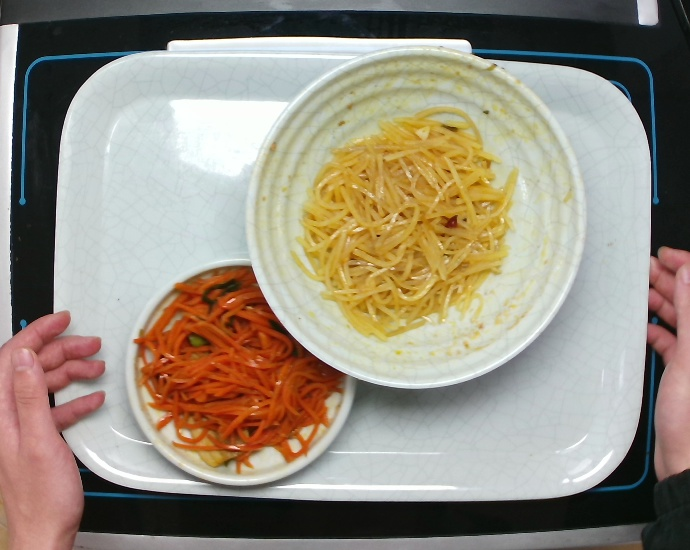JYsf-Da_Tang_Wan: (239, 42, 592, 394)
JYsf-Xiao_Yuan_Pan: (119, 254, 365, 491)
